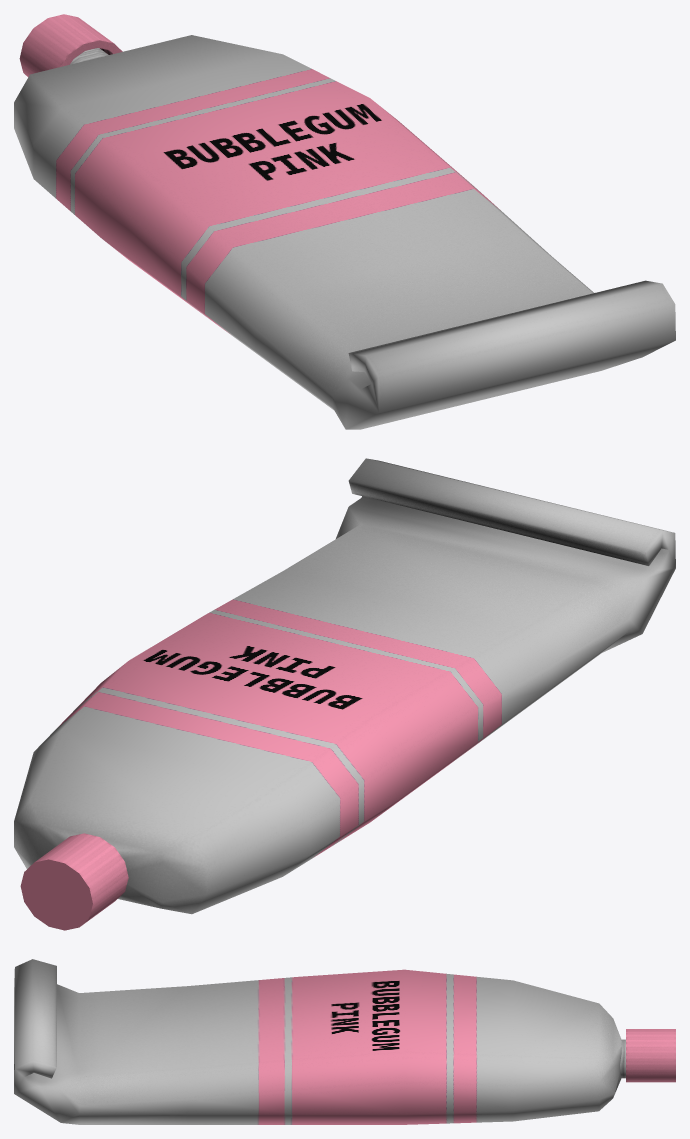
The model's file is paint_07.fbx.
3 renders of one model, top to bottom at view 1: azimuth 30°, elevation 25°; view 2: azimuth 150°, elevation 25°; view 3: azimuth 270°, elevation 25°, orthographic. The views are drawn at different scales.
Parts seen in each view (by area): view 1: paint_07, paint_07.lid; view 2: paint_07, paint_07.lid; view 3: paint_07, paint_07.lid.
Part boxes in pixels (x1,y1,x2,y2): paint_07: (14, 35, 675, 429); paint_07.lid: (19, 14, 122, 76); paint_07: (14, 458, 675, 914); paint_07.lid: (20, 833, 128, 930); paint_07: (14, 959, 625, 1124); paint_07.lid: (626, 1029, 675, 1082).
Bounding box in the file's own units: 11.6 × 3.91 × 31.88.
